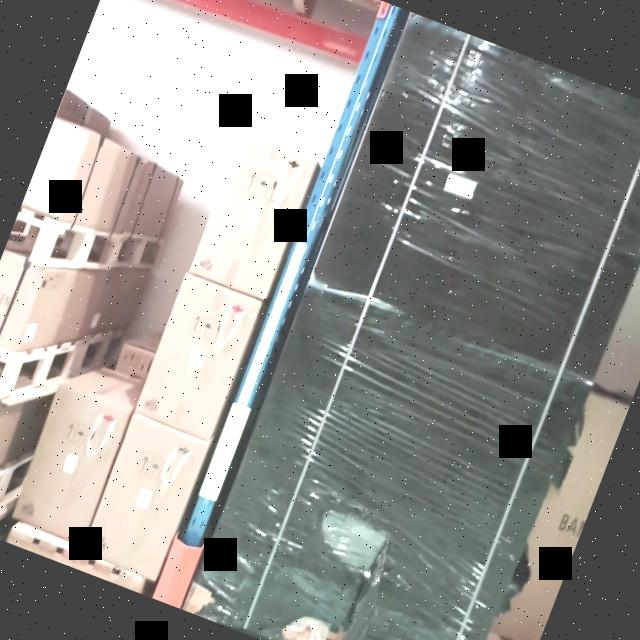box: (197, 295, 579, 640), (308, 13, 640, 387), (133, 270, 267, 442), (79, 413, 208, 582), (190, 134, 317, 298), (8, 380, 133, 542)
